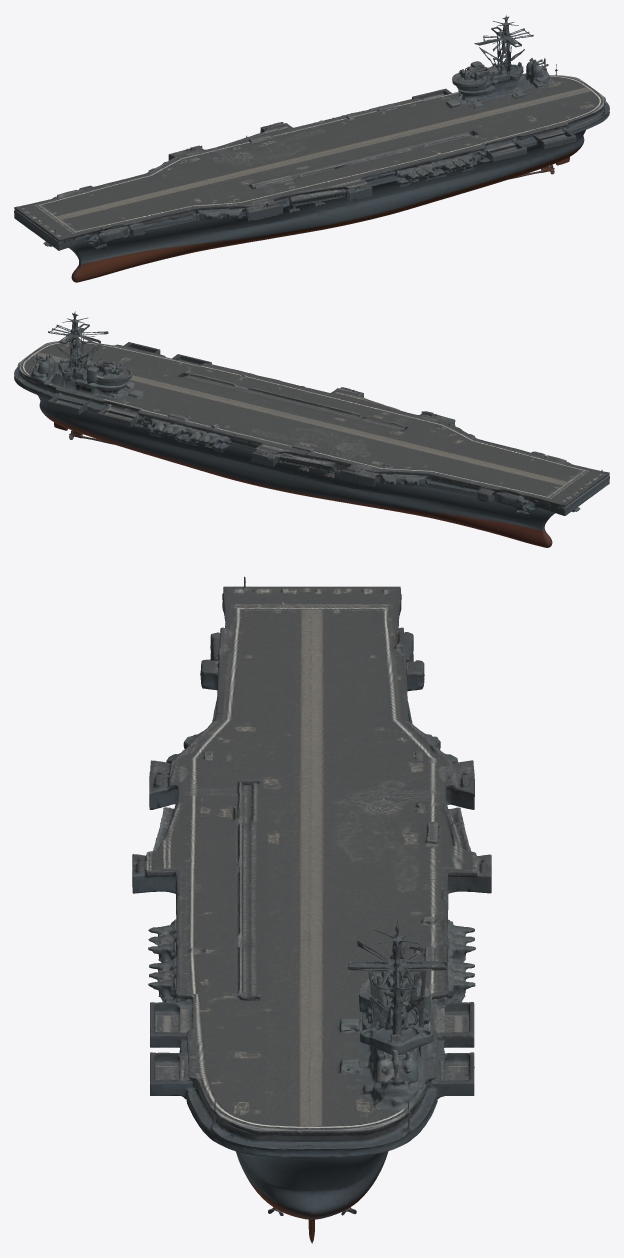
The model's file is queen_black.glb.
The picture shows the model from 3 angles, top to bottom: view 1: azimuth 30°, elevation 25°; view 2: azimuth 150°, elevation 25°; view 3: azimuth 270°, elevation 25°; orthographic projection. The views are drawn at different scales.
Visible parts, largest first — view 1: mesh_node; view 2: mesh_node; view 3: mesh_node.
Boxes of the visible parts, x1,y1,x2,y2 form: mesh_node: [14, 15, 609, 282]; mesh_node: [14, 311, 609, 547]; mesh_node: [132, 576, 491, 1243].
Size of the model in its own units: 1.9 by 0.4597 by 0.5265.
1 material, 1 textured.
